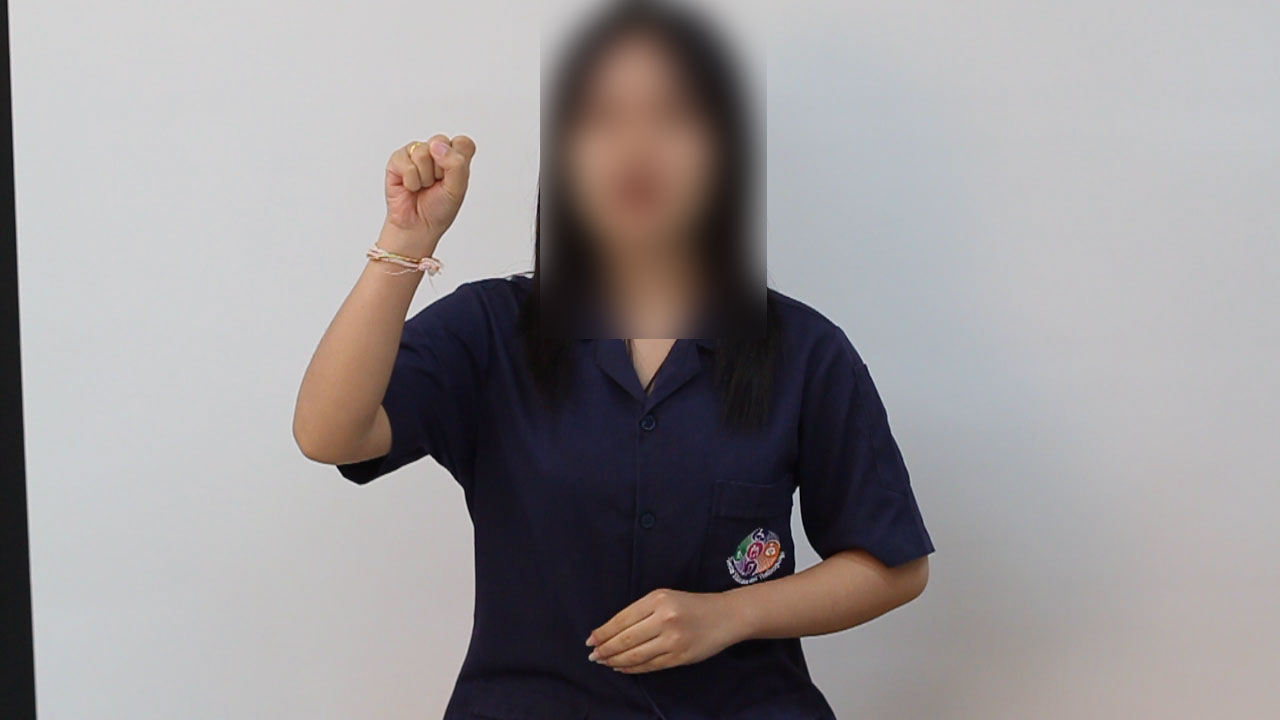sor: (362, 120, 484, 277)
